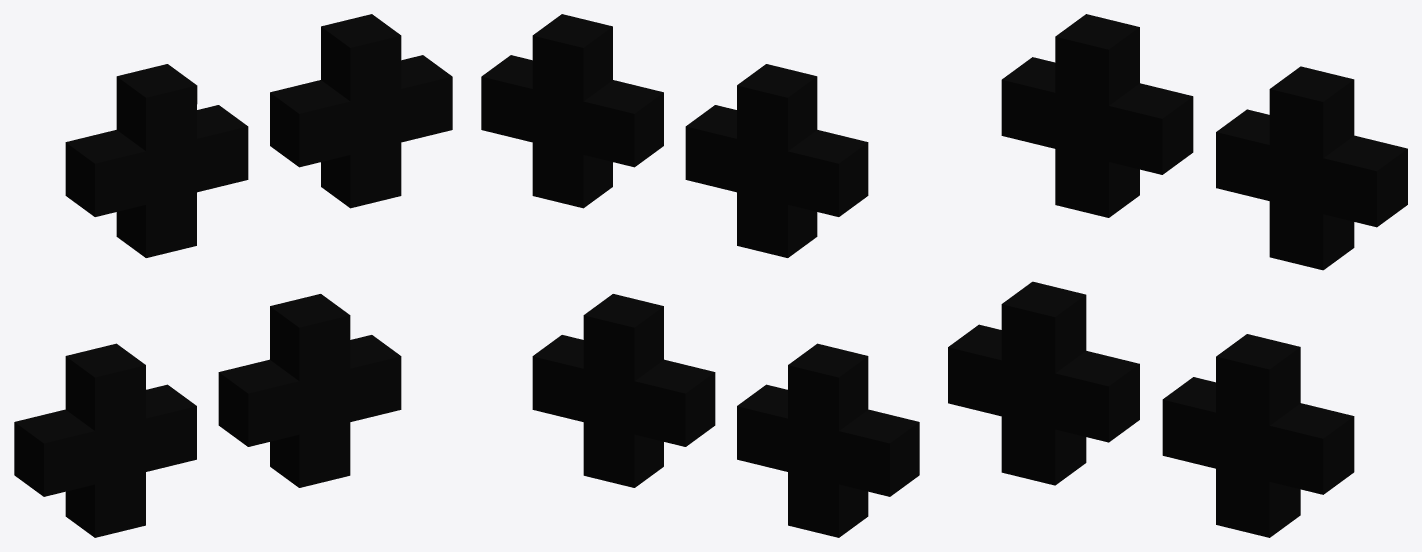
Rendered from Trap_Wall_Small_Deactivated.glb.
3 renders of one model, left to right at view 1: azimuth 30°, elevation 25°; view 2: azimuth 150°, elevation 25°; view 3: azimuth 330°, elevation 25°, orthographic. The views are drawn at different scales.
Parts seen in each view (by area): view 1: Trap_Wall_Small_Deactivated; view 2: Trap_Wall_Small_Deactivated; view 3: Trap_Wall_Small_Deactivated.
Boxes of the visible parts, x1,y1,x2,y2 form: Trap_Wall_Small_Deactivated: (14, 14, 452, 537); Trap_Wall_Small_Deactivated: (481, 14, 919, 537); Trap_Wall_Small_Deactivated: (948, 14, 1407, 537).
Bounding box in the file's own units: 0.8 × 0.8 × 0.1.
1 material, 1 textured.
